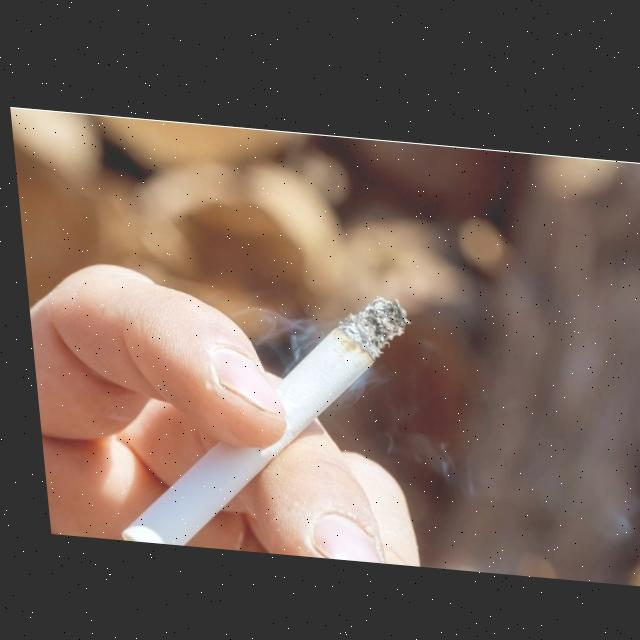cigarette: (89, 268, 425, 560)
